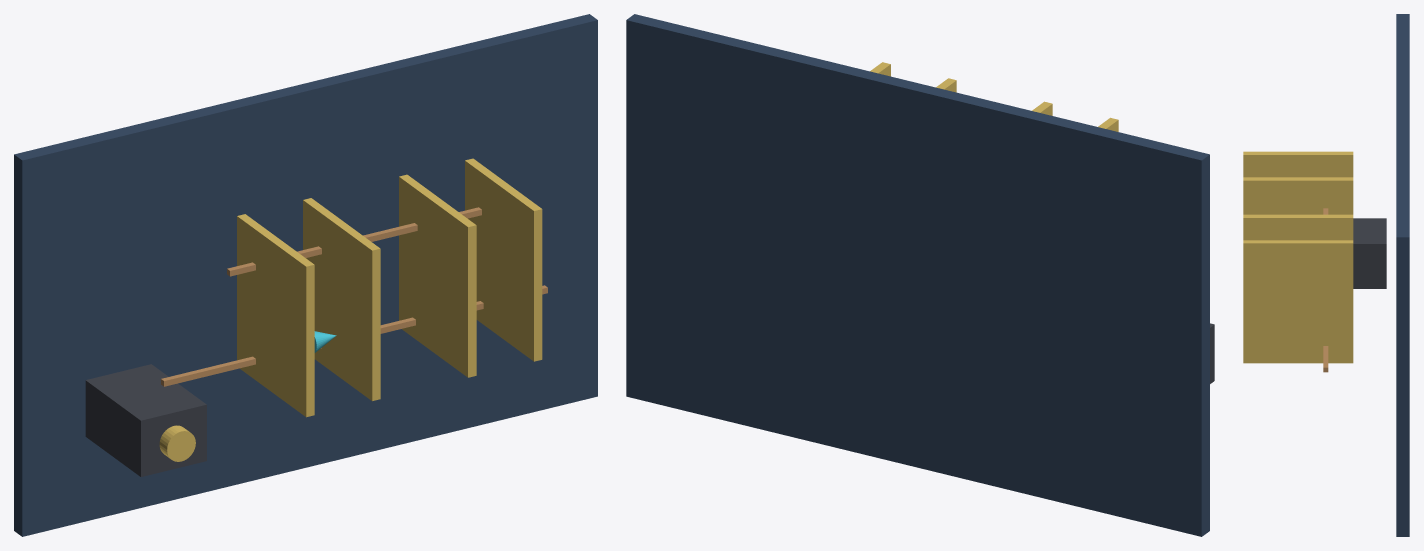
File: capacitor-lab.glb
3 renders of one model, left to right at view 1: azimuth 30°, elevation 25°; view 2: azimuth 150°, elevation 25°; view 3: azimuth 270°, elevation 25°, orthographic. The views are drawn at different scales.
Visible parts, largest first — view 1: bench, capacitor_plate_2, capacitor_plate_0, capacitor_plate_3, capacitor_plate_1, battery_body, battery_positive, wire_0; view 2: bench; view 3: capacitor_plate_3, bench, capacitor_plate_1, capacitor_plate_0, capacitor_plate_2, battery_body.
Part boxes in pixels (bbox=[...]): bench: bbox=[14, 14, 597, 536]; capacitor_plate_2: bbox=[399, 174, 476, 377]; capacitor_plate_0: bbox=[237, 214, 314, 417]; capacitor_plate_3: bbox=[465, 158, 542, 361]; capacitor_plate_1: bbox=[303, 198, 380, 401]; battery_body: bbox=[85, 364, 206, 476]; battery_positive: bbox=[159, 425, 195, 461]; wire_0: bbox=[161, 356, 255, 386]; bench: bbox=[626, 14, 1209, 536]; capacitor_plate_3: bbox=[1243, 240, 1353, 363]; bench: bbox=[1396, 14, 1409, 536]; capacitor_plate_1: bbox=[1243, 177, 1353, 214]; capacitor_plate_0: bbox=[1243, 151, 1353, 177]; capacitor_plate_2: bbox=[1243, 214, 1353, 240]; battery_body: bbox=[1353, 218, 1386, 288].
Bounding box in the file's own units: 4.8 × 3 × 1.51.
